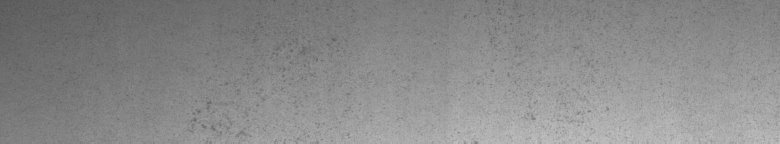ib: (187, 36, 343, 136)
